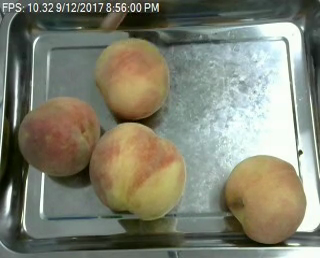Peach: (88, 121, 185, 221), (224, 154, 306, 244), (17, 96, 99, 177), (93, 37, 170, 121)
